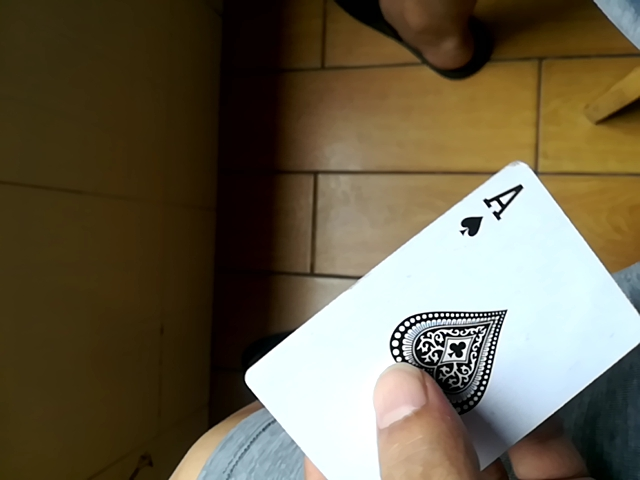ht a: (236, 159, 637, 478)
